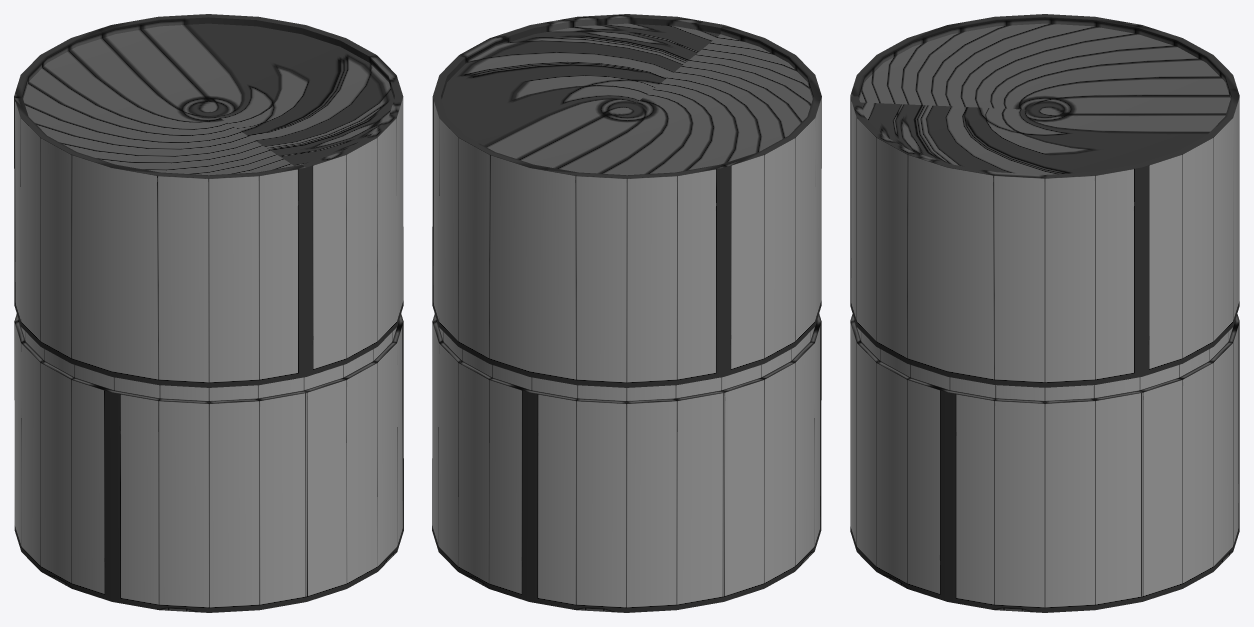
The picture shows the model from 3 angles, left to right: view 1: azimuth 30°, elevation 25°; view 2: azimuth 150°, elevation 25°; view 3: azimuth 270°, elevation 25°; orthographic projection.
Visible parts, largest first — view 1: Body; view 2: Body; view 3: Body.
Part boxes in pixels (left/top/right/bottom): Body: left=14, top=14, right=403, bottom=612; Body: left=432, top=14, right=821, bottom=612; Body: left=850, top=14, right=1239, bottom=612.
Size of what is drawn, in the model's own units: 171 by 211 by 171.
1 material, 1 textured.
